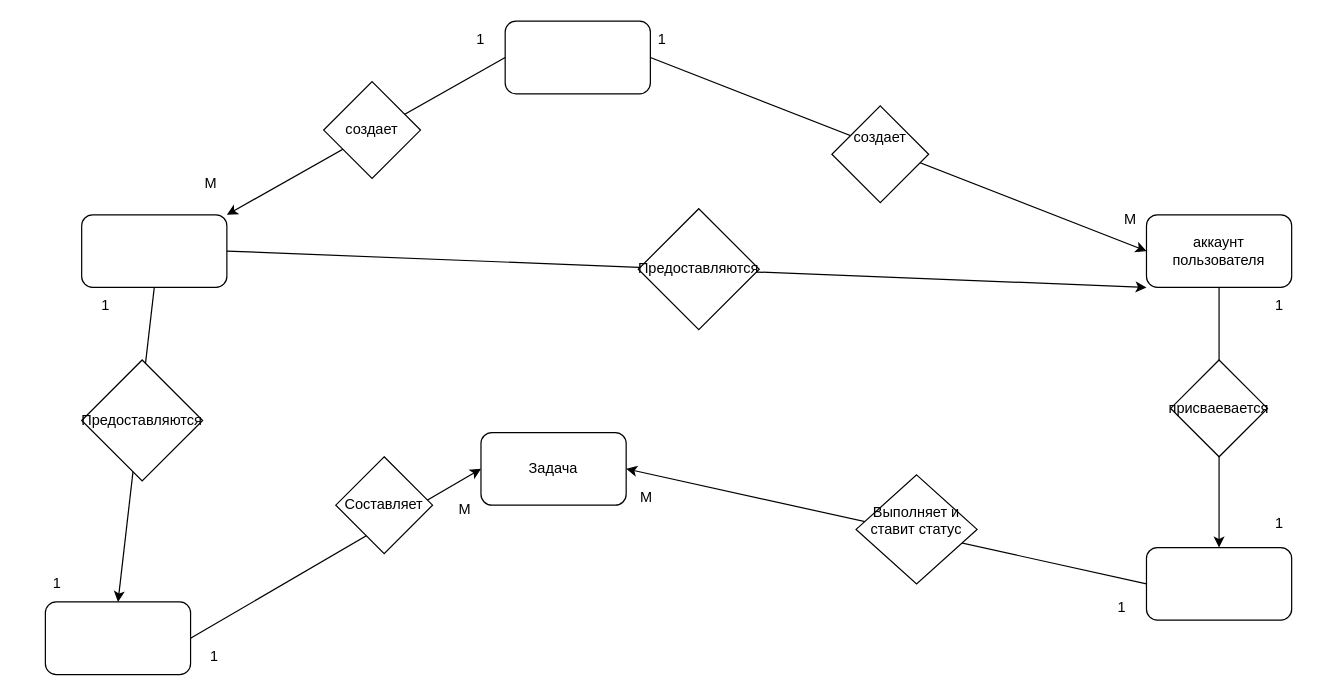
Some shapes in this 1336 by 696 pixel diagram are drawn without their labels. The shapes that lost their labels are listed below. From the top down, each one's centre as x and y in pixels, then its label:
(577,57): Админ
(153,250): Права доступа к приложению
(1218,583): работник
(117,638): Менеджер
